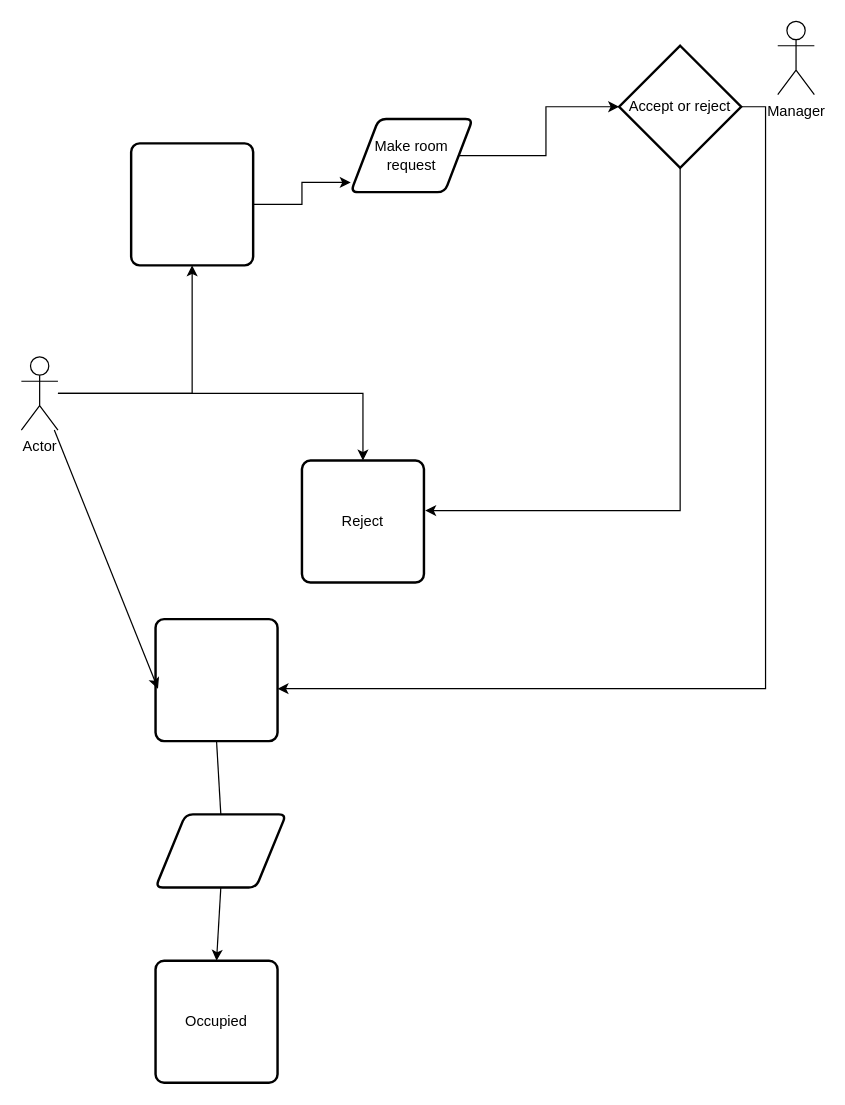
Some shapes in this 845 by 1105 pixel diagram are drawn without their labels. Here are the shapes that lost their labels. From the top down, the centre of each, then its label:
the point at 191,204: Empty
the point at 216,679: Accept
the point at 220,850: Make Payment
